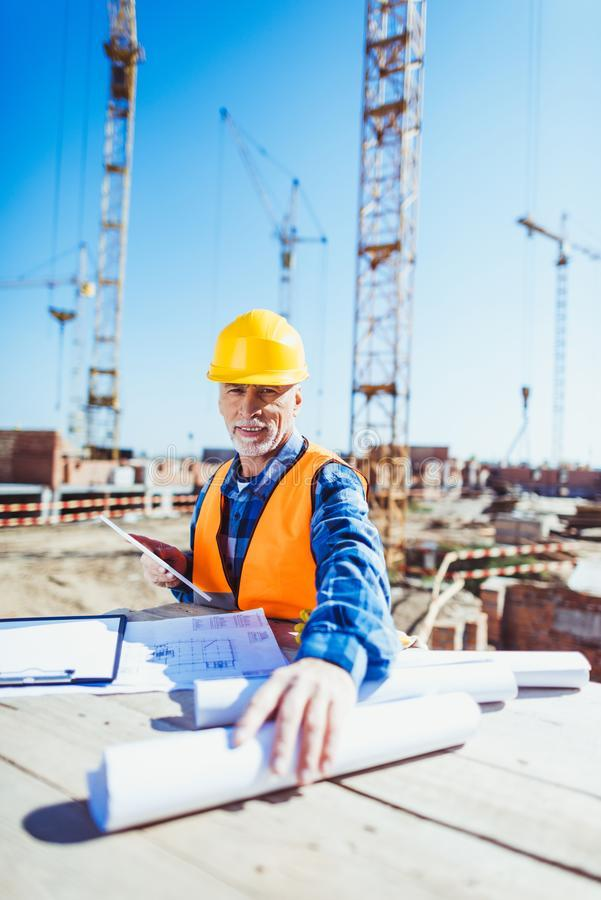helmet: (210, 310, 312, 392)
